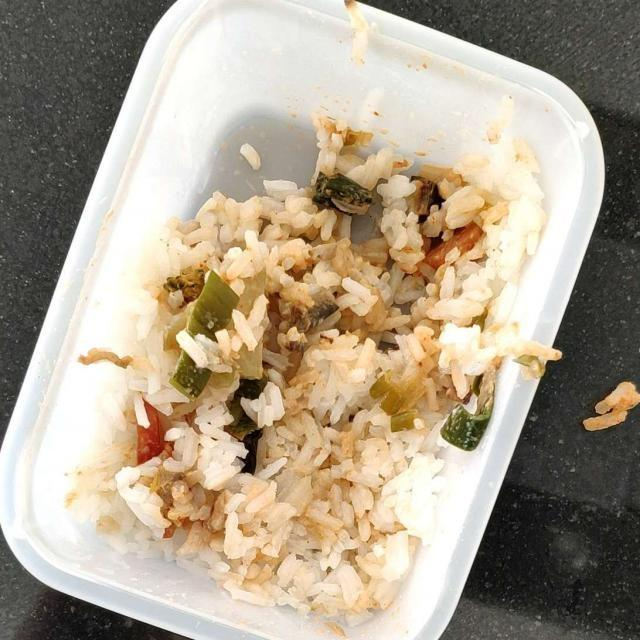mixed-vegetables: (116, 178, 494, 474)
rice: (82, 119, 542, 613)
